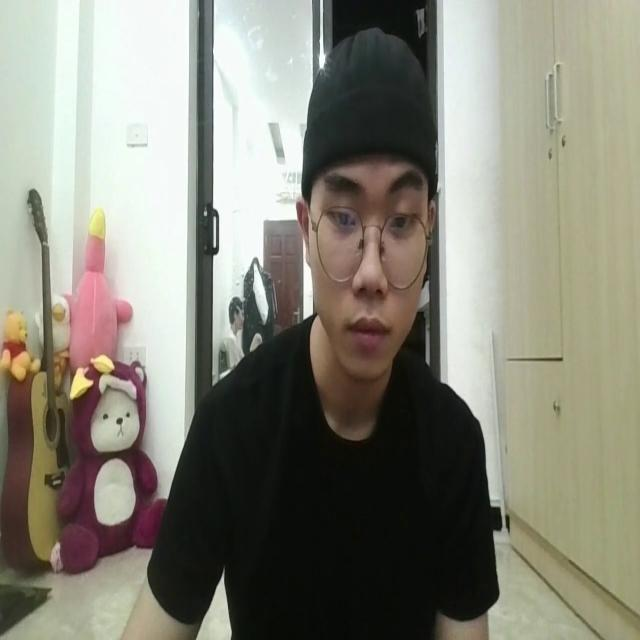student: (133, 30, 495, 640)
